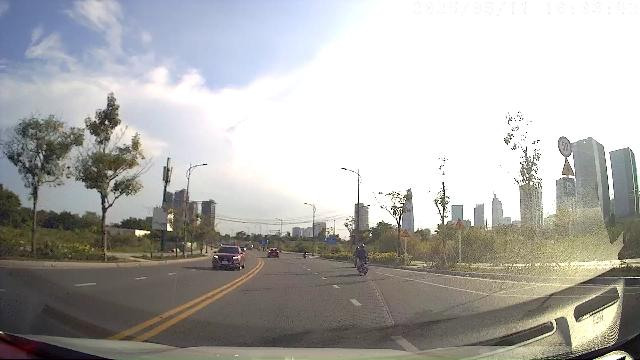127-toc-do-toi-da-50: (558, 136, 572, 157)
